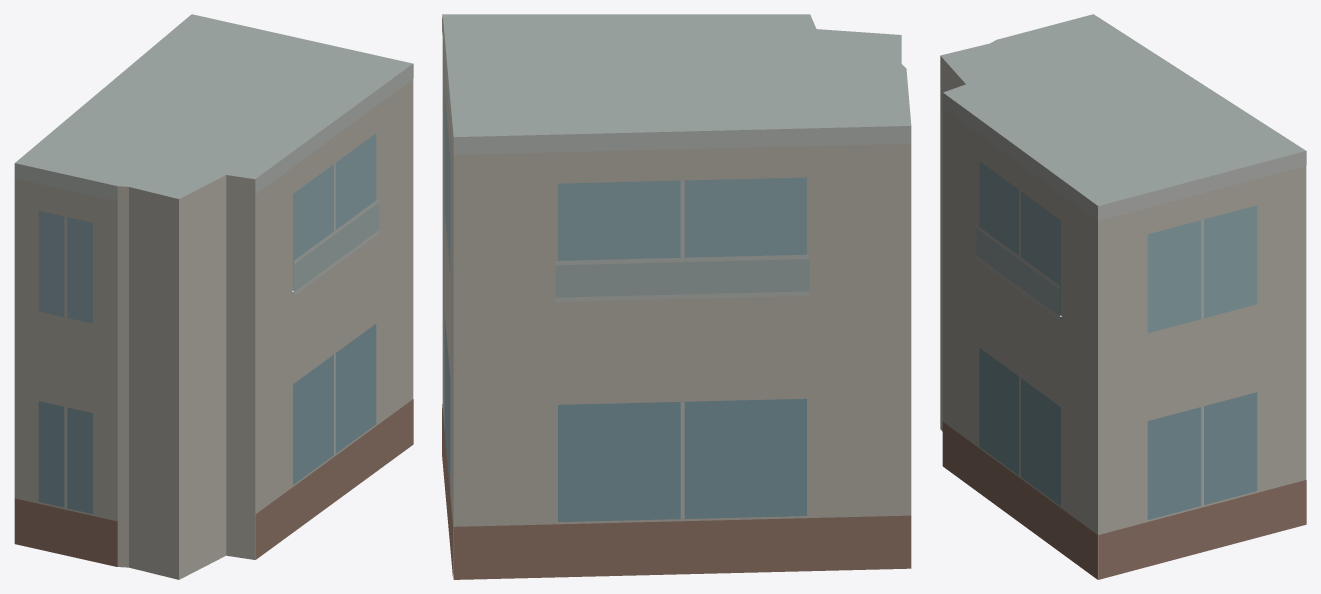
The model's file is survey-upis-32609815.glb.
3 views of the same model, side by side, from view 1: azimuth 30°, elevation 25°; view 2: azimuth 150°, elevation 25°; view 3: azimuth 270°, elevation 25° (orthographic). The views are drawn at different scales.
Visible parts, largest first — view 1: survey-upis-32609815.tmp; view 2: survey-upis-32609815.tmp; view 3: survey-upis-32609815.tmp.
Boxes of the visible parts, x1,y1,x2,y2 form: survey-upis-32609815.tmp: (14, 14, 413, 579); survey-upis-32609815.tmp: (442, 14, 911, 579); survey-upis-32609815.tmp: (940, 14, 1306, 579).
Size of the model in its own units: 6.73 by 6.1 by 5.42.
